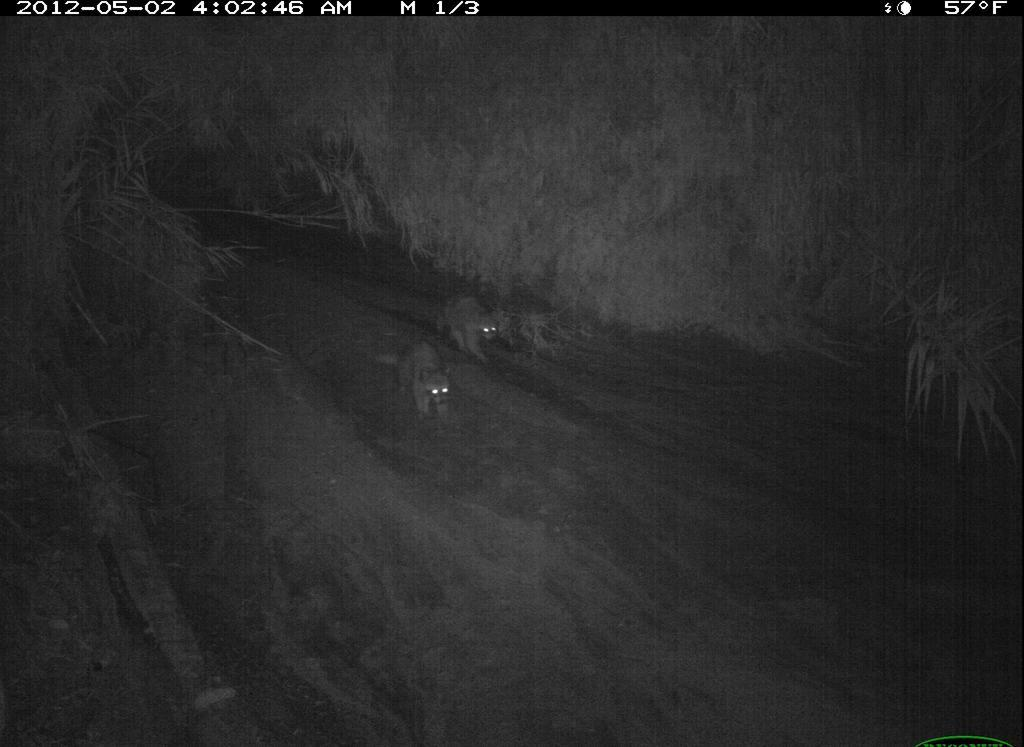raccoon: (859, 578, 1012, 739), (753, 666, 919, 747)
